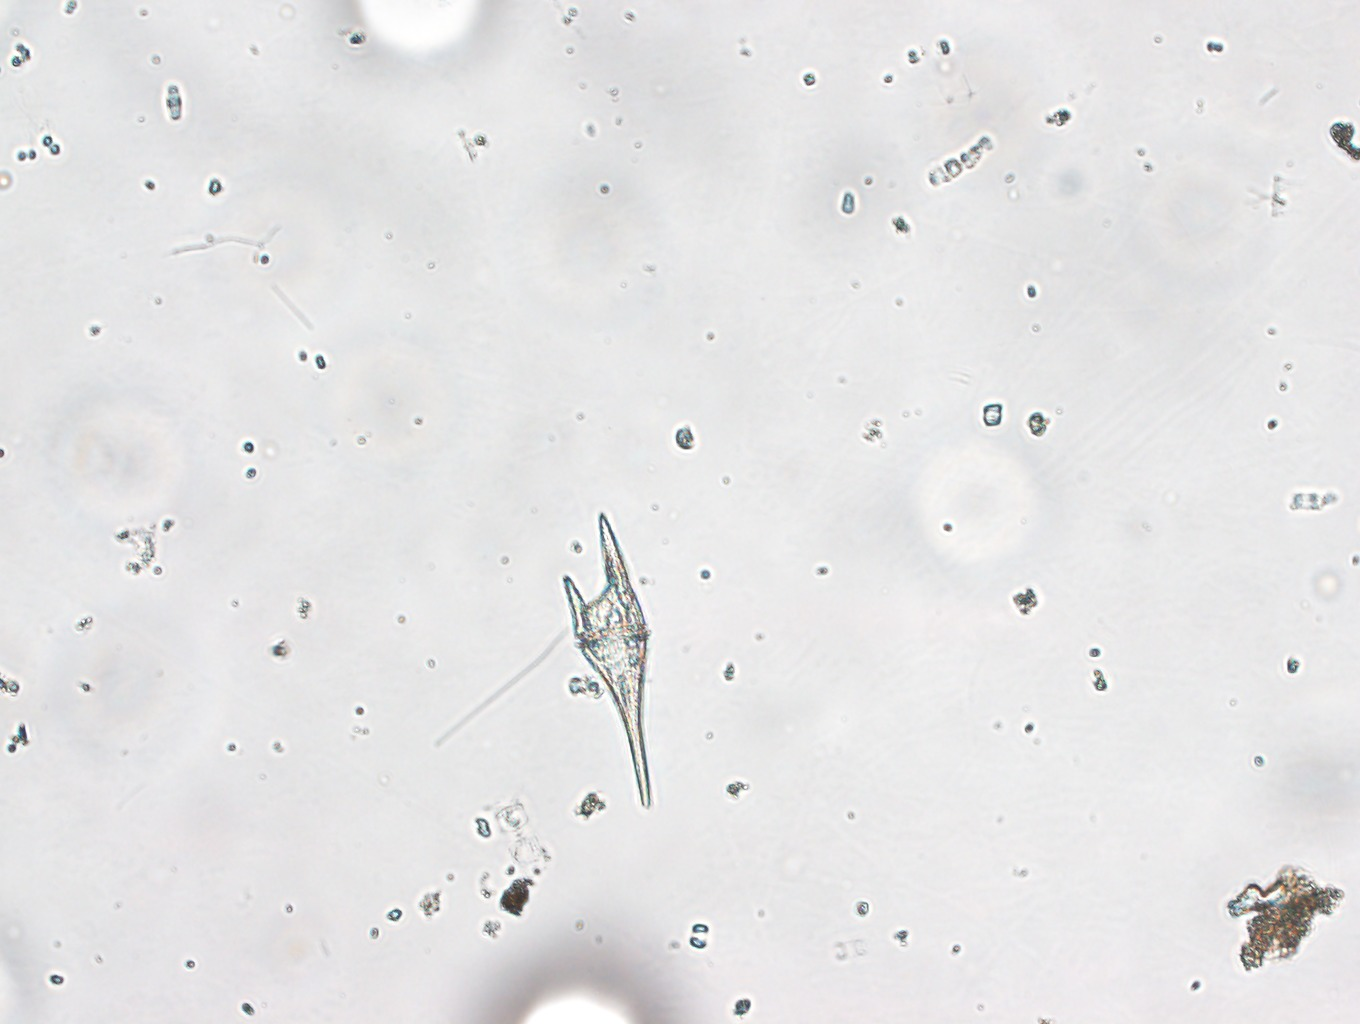ceratium furca: (546, 501, 667, 817)
